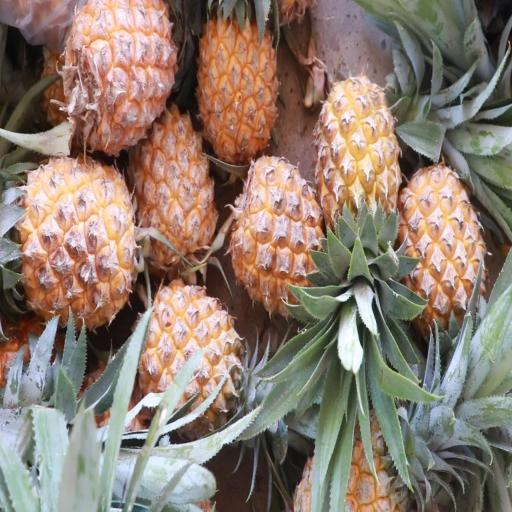Pineapple - v8 v1: (0, 150, 143, 328), (62, 0, 184, 163), (133, 278, 248, 435), (392, 158, 487, 345), (314, 75, 403, 272), (228, 151, 330, 320), (130, 101, 221, 278), (195, 0, 279, 173)
